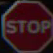Stop: (2, 3, 52, 47)
